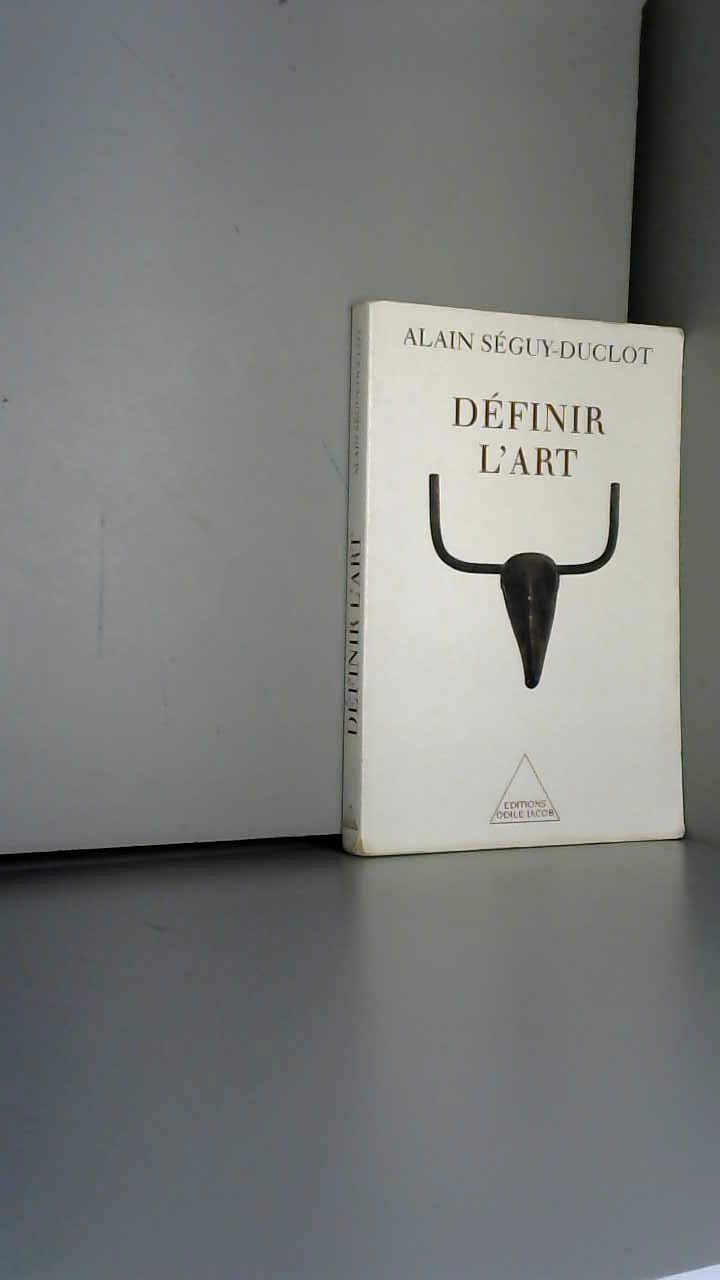book: (330, 270, 718, 869)
